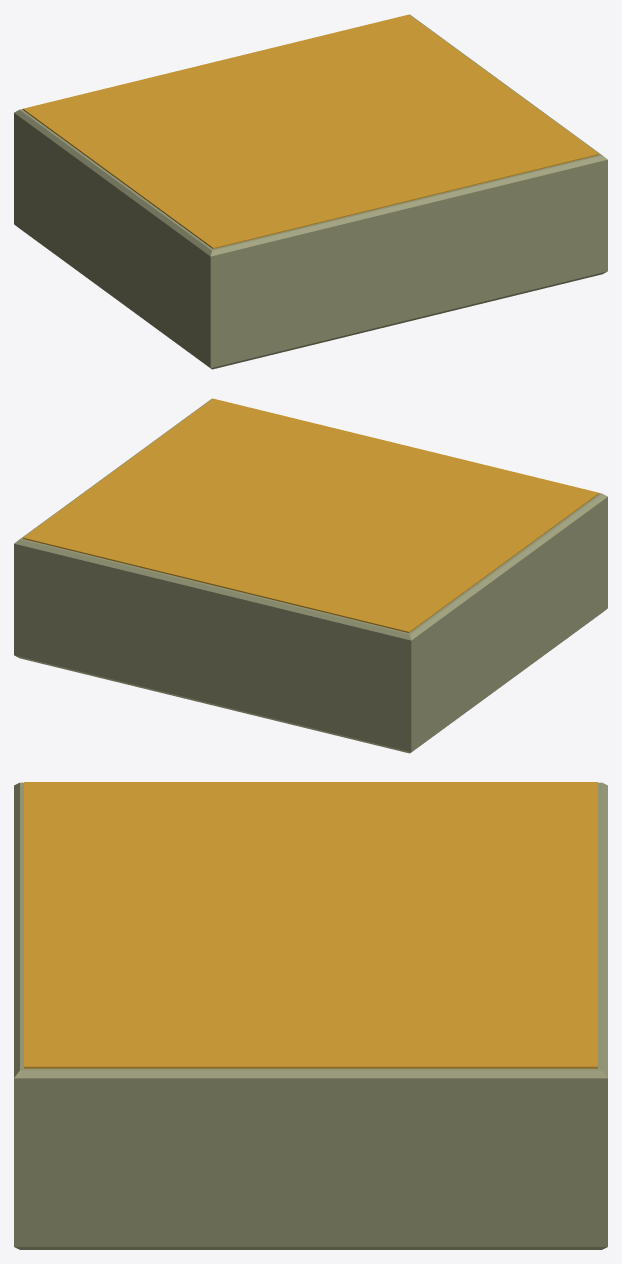
The model's file is EnemyPerch.obj.
The picture shows the model from 3 angles, top to bottom: view 1: azimuth 30°, elevation 25°; view 2: azimuth 150°, elevation 25°; view 3: azimuth 270°, elevation 25°; orthographic projection. The views are drawn at different scales.
Parts seen in each view (by area): view 1: EnemyPerch; view 2: EnemyPerch; view 3: EnemyPerch.
Part boxes in pixels (box(x1,y1,x2,y2)): EnemyPerch: box(14, 14, 607, 369); EnemyPerch: box(14, 398, 607, 753); EnemyPerch: box(14, 782, 607, 1249).
Bounding box in the file's own units: 14 × 4.05 × 12.
